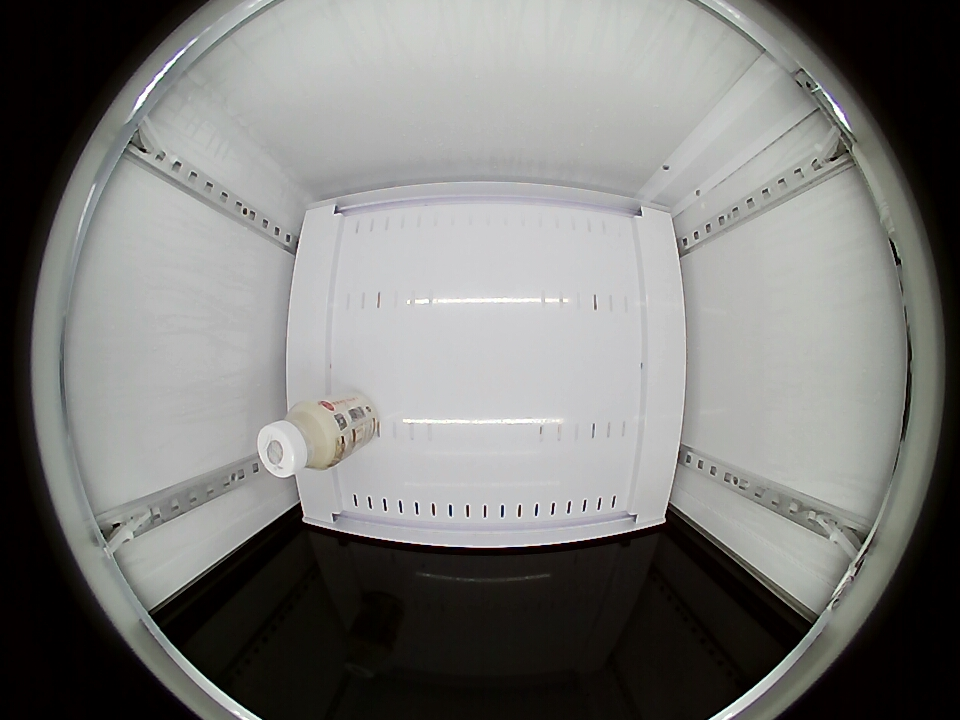weiweidounai: (256, 400, 341, 477)
